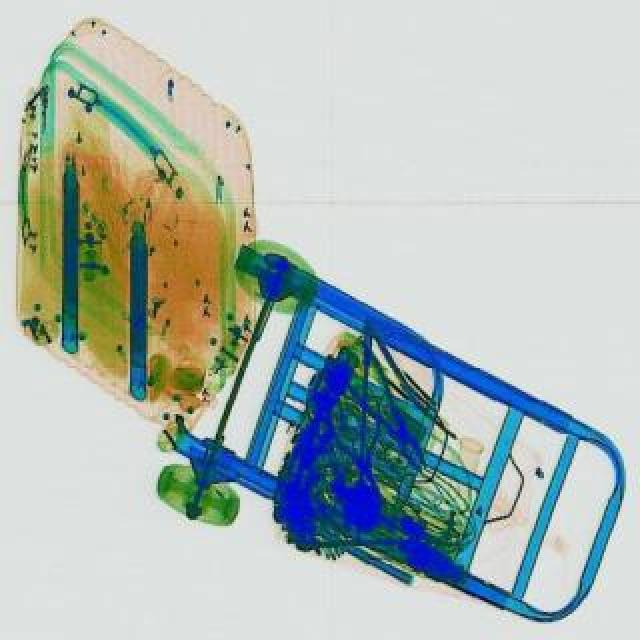wrench: (330, 336, 444, 480), (324, 394, 404, 512)
